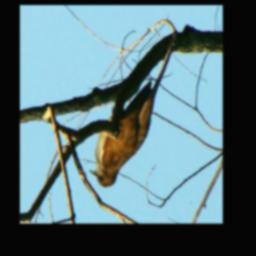Cuckoo: (90, 79, 154, 189)
